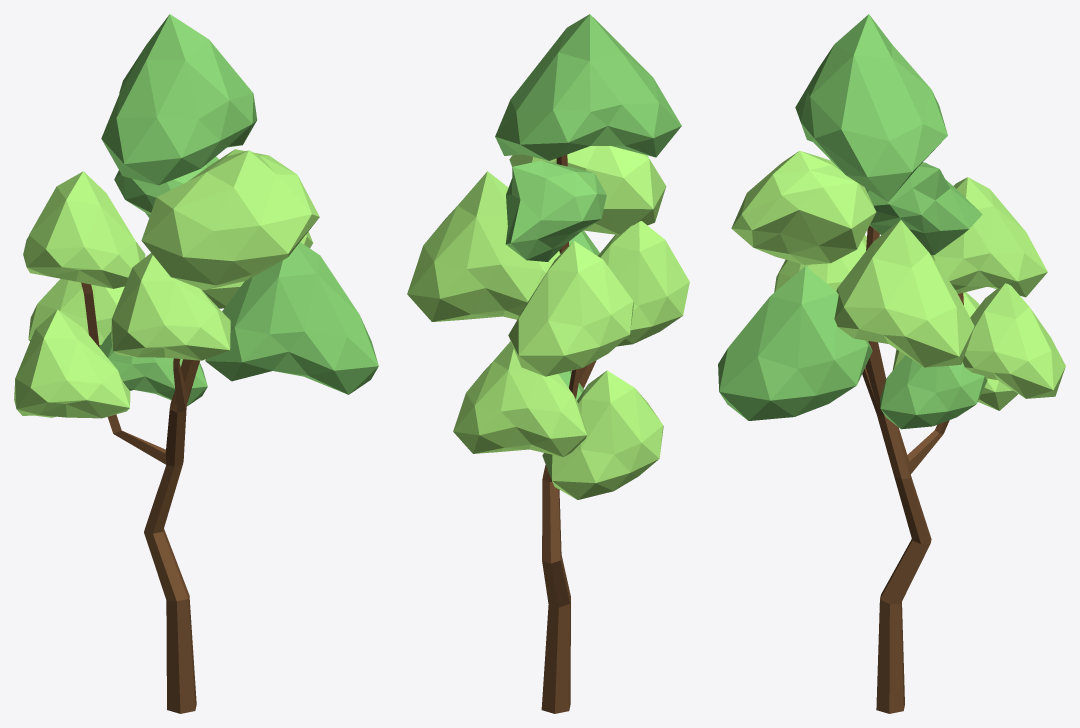
The model's file is Tree_Type4_5.fbx.
3 views of the same model, side by side, from view 1: azimuth 30°, elevation 25°; view 2: azimuth 150°, elevation 25°; view 3: azimuth 270°, elevation 25° (orthographic). The views are drawn at different scales.
Parts seen in each view (by area): view 1: Tree_Type4_5; view 2: Tree_Type4_5; view 3: Tree_Type4_5.
Boxes of the visible parts, <box> form: Tree_Type4_5: <box>14,14,378,713</box>; Tree_Type4_5: <box>407,14,689,713</box>; Tree_Type4_5: <box>718,14,1065,713</box>.
Size of the model in its own units: 283 by 727 by 336.
